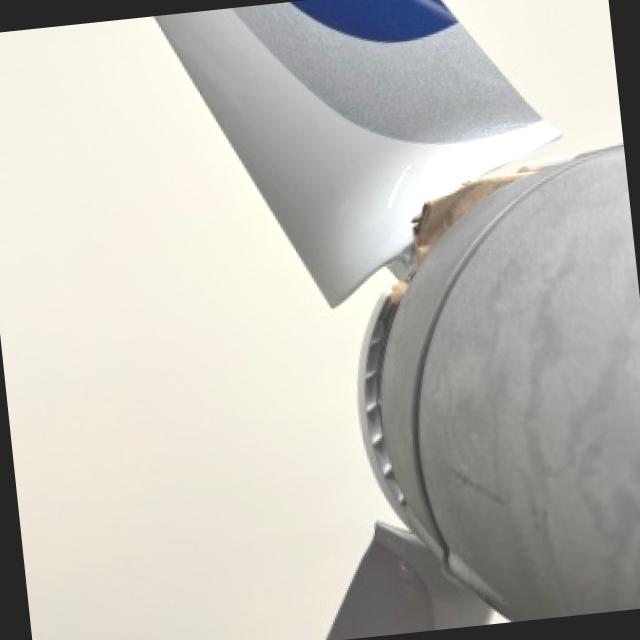healthy: (153, 0, 640, 619)
